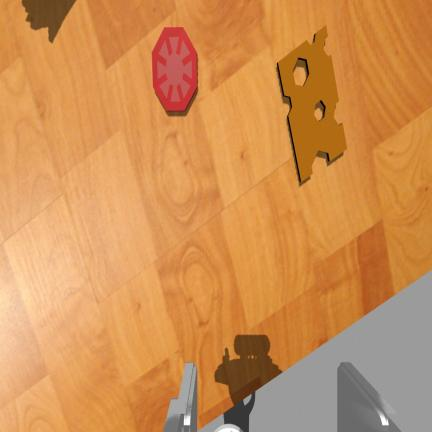cheese: (277, 26, 346, 181)
sliced_tomato: (153, 28, 196, 110)
